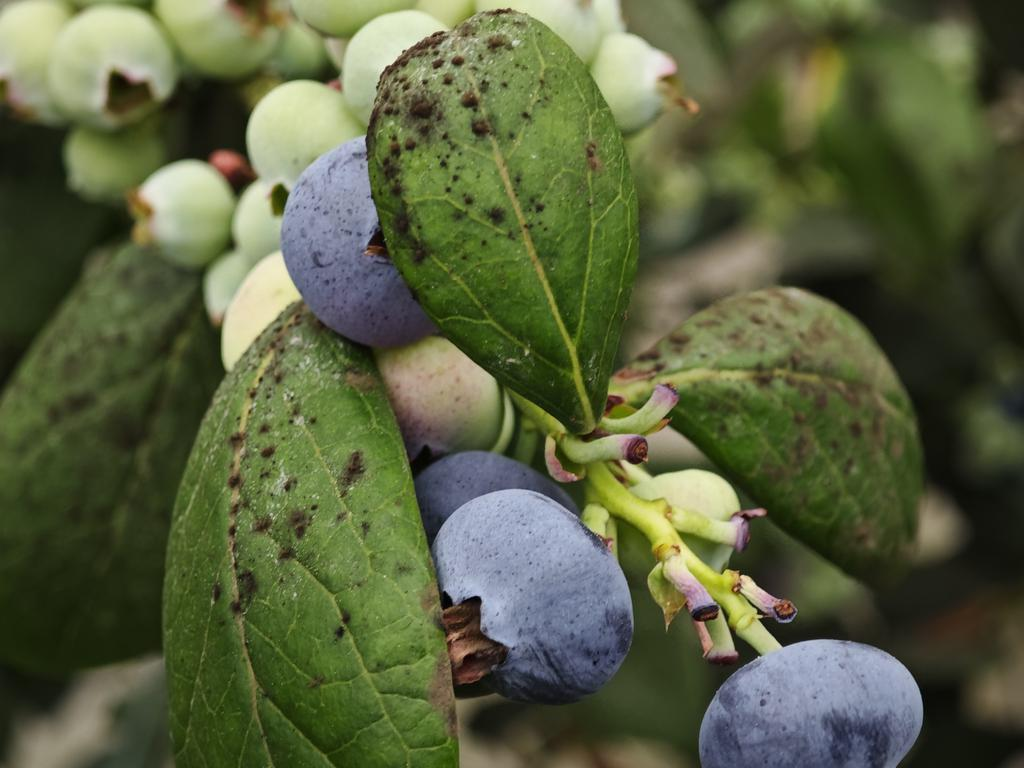RipeBlueBerry: (436, 493, 628, 697), (697, 642, 923, 768)
